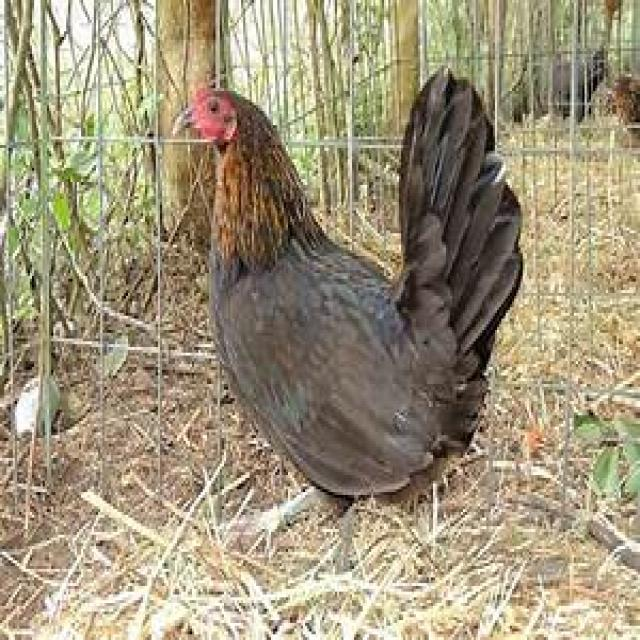hen: (179, 70, 522, 496)
